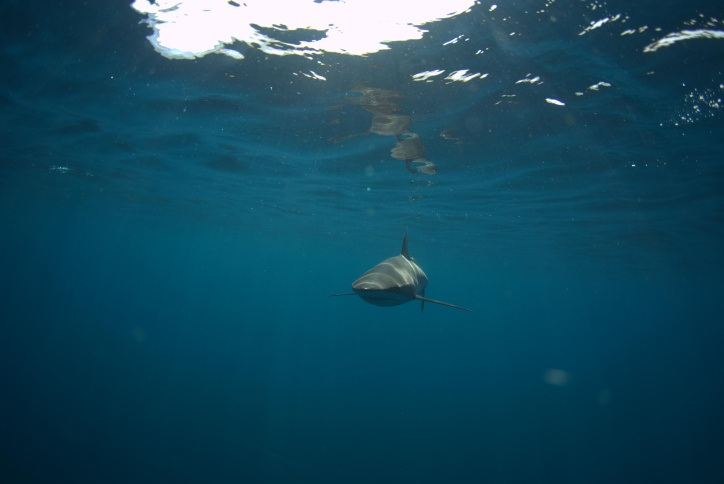Sedoso: (307, 226, 488, 325)
